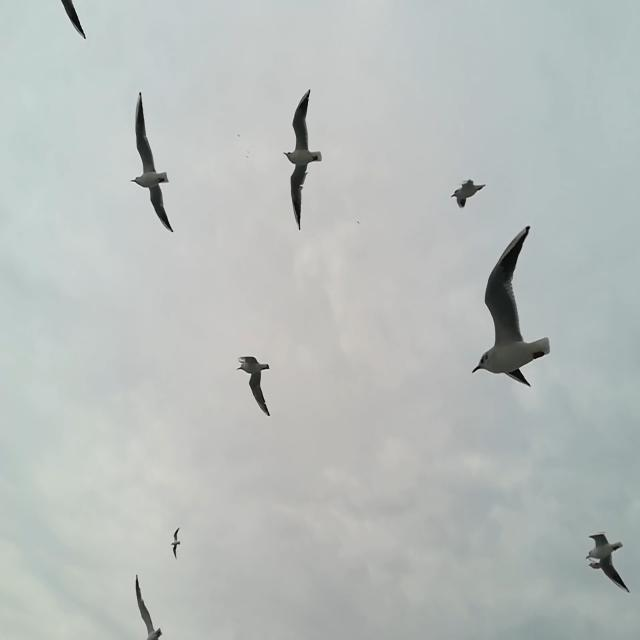bird: (472, 223, 552, 392), (131, 92, 174, 233), (284, 88, 322, 232), (583, 530, 629, 592), (236, 353, 273, 418), (133, 574, 165, 639), (59, 0, 88, 42), (450, 176, 486, 209), (172, 528, 184, 562)
